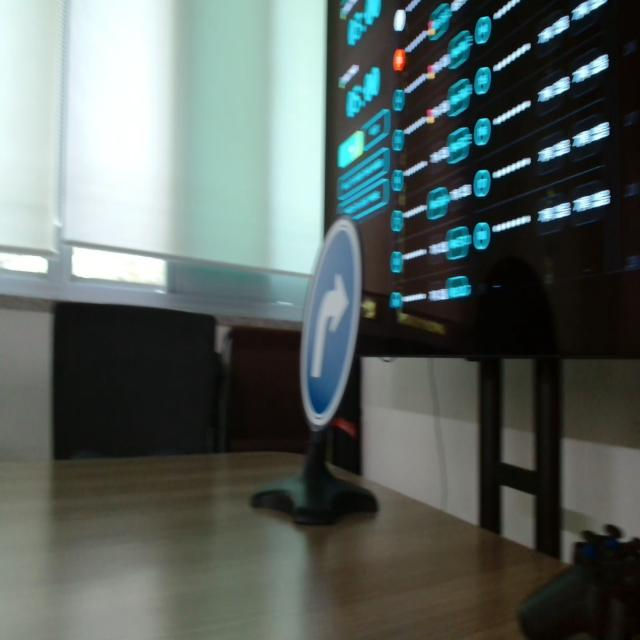right_dierection: (298, 225, 359, 432)
